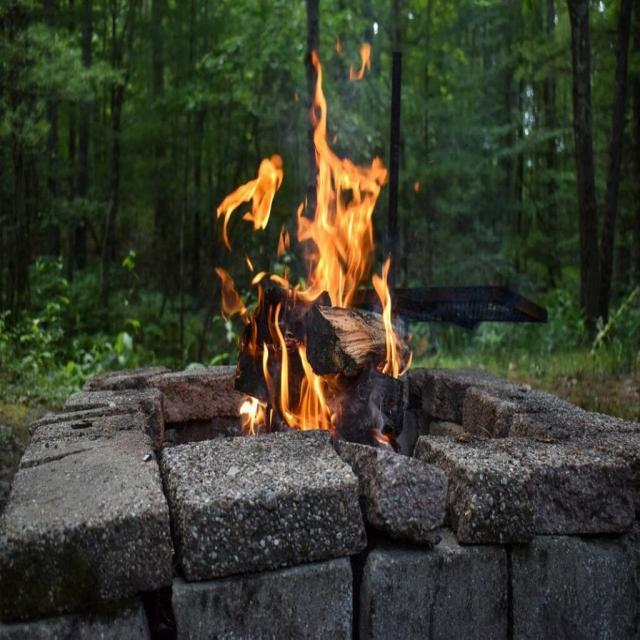Fire: (214, 39, 422, 454)
